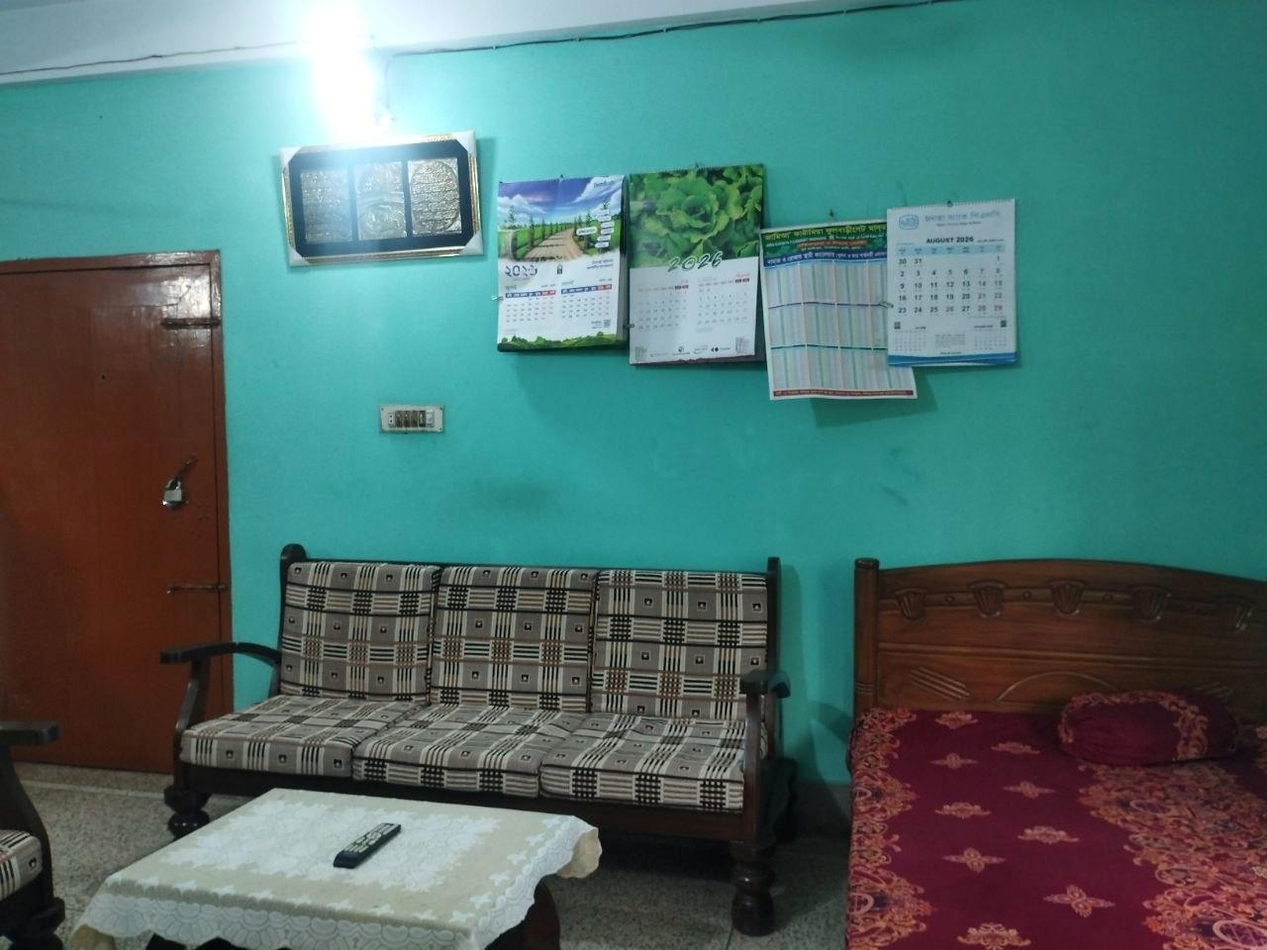Door: (0, 262, 230, 768)
Light: (311, 56, 385, 117)
Lock: (143, 456, 208, 524)
Photo: (484, 175, 629, 262), (623, 171, 773, 252)
Pillow: (1035, 670, 1237, 779)
Remote: (333, 797, 406, 883)
Table: (77, 785, 579, 950)
